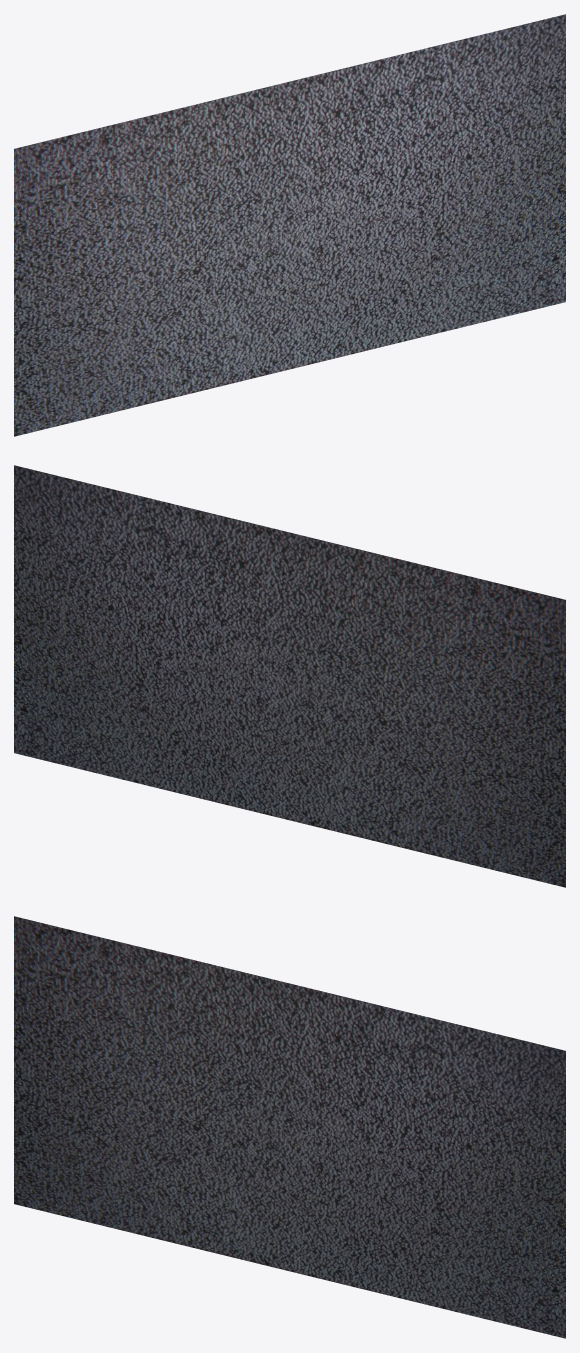
Rendered from burguer1.fbx.
The picture shows the model from 3 angles, top to bottom: view 1: azimuth 30°, elevation 25°; view 2: azimuth 150°, elevation 25°; view 3: azimuth 330°, elevation 25°; orthographic projection.
Visible parts, largest first — view 1: burguer1; view 2: burguer1; view 3: burguer1.
Part boxes in pixels (x1,y1,x2,y2): burguer1: (14, 14, 565, 436); burguer1: (14, 465, 565, 887); burguer1: (14, 916, 565, 1338).
Size of the model in its own units: 160 by 1.3e-05 by 79.5.
1 material, 1 textured.
